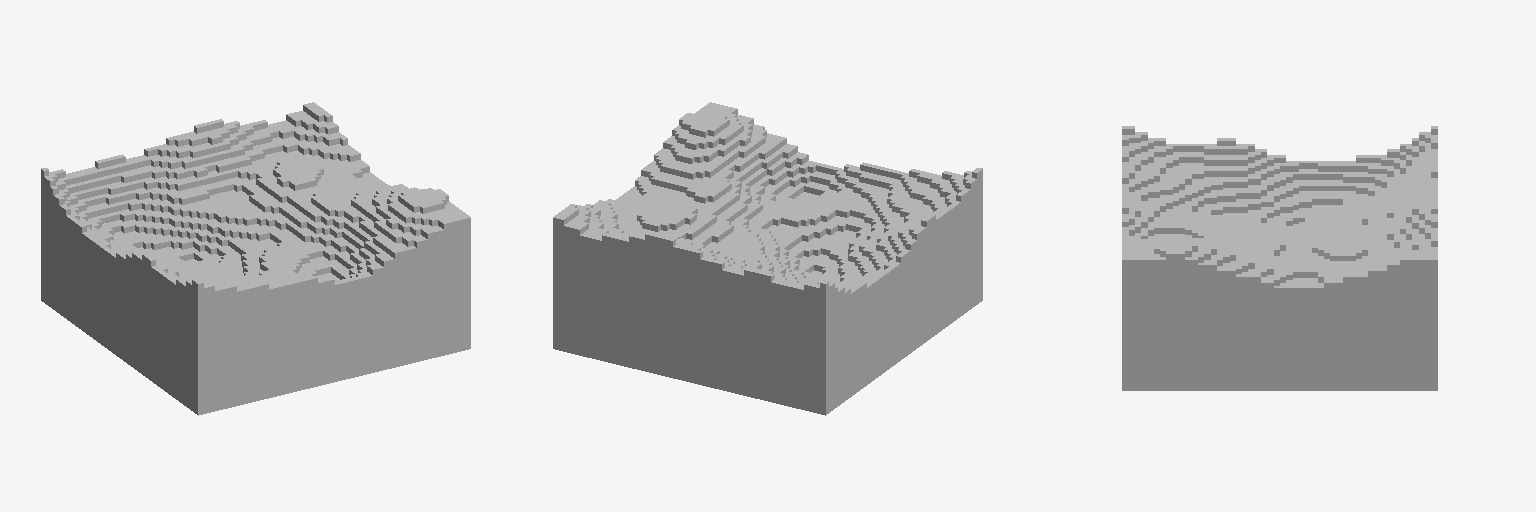
Rendered from ChunkOccluded.obj.
The picture shows the model from 3 angles: view 1: azimuth 30°, elevation 25°; view 2: azimuth 150°, elevation 25°; view 3: azimuth 270°, elevation 25°; orthographic projection.
Size of the model in its own units: 50 by 24 by 50.